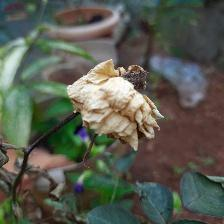rose: (65, 59, 167, 155)
